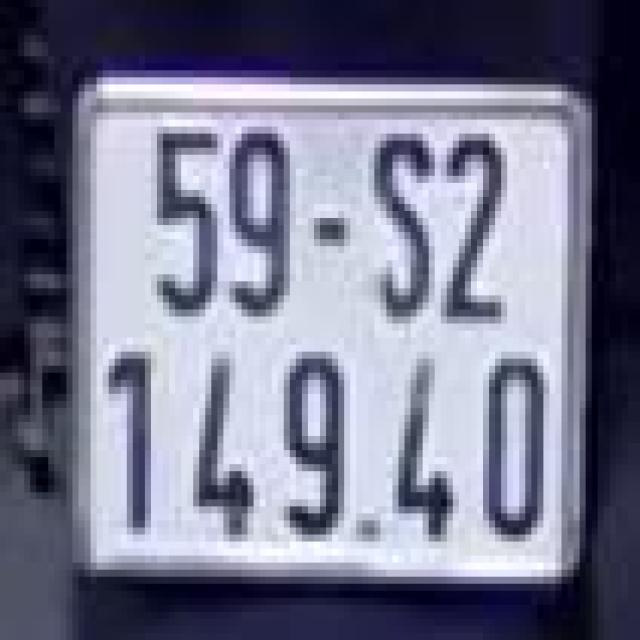0: (468, 348, 546, 552)
1: (106, 330, 166, 542)
2: (438, 120, 516, 338)
4: (178, 338, 257, 562), (389, 344, 456, 548)
5: (136, 123, 220, 320)
9: (272, 331, 356, 548), (223, 109, 302, 327)
S: (356, 92, 441, 330)
